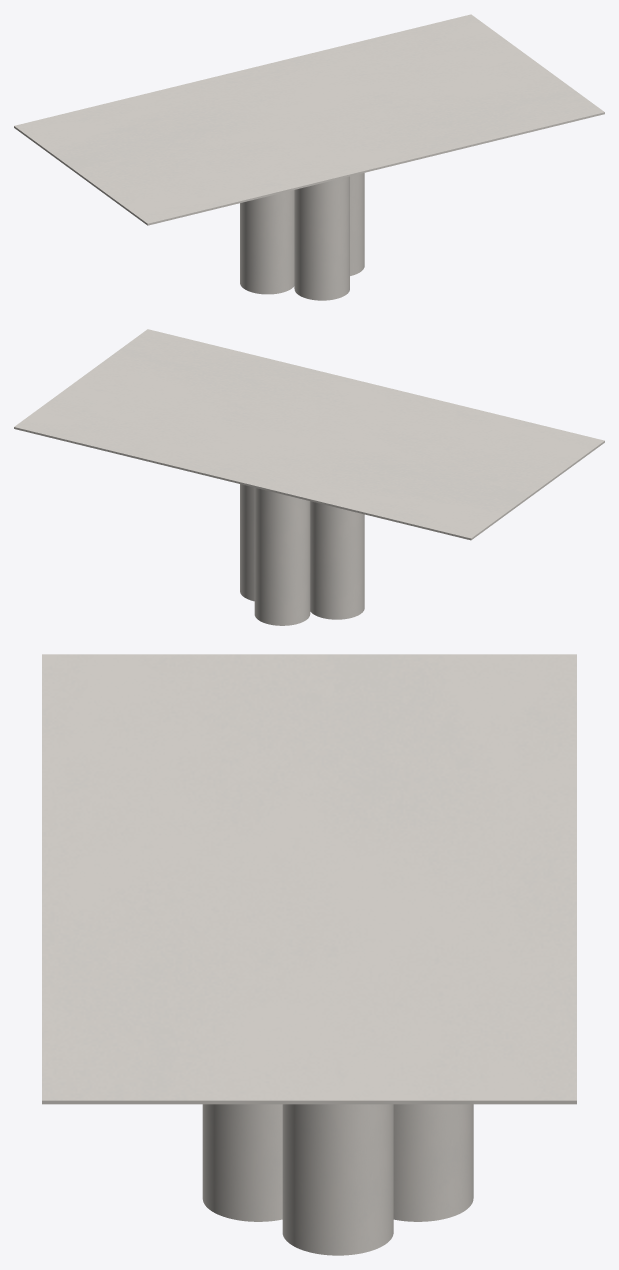
The model's file is pearlwhite_recta_facet_secondtable.glb.
3 renders of one model, top to bottom at view 1: azimuth 30°, elevation 25°; view 2: azimuth 150°, elevation 25°; view 3: azimuth 270°, elevation 25°, orthographic. The views are drawn at different scales.
Visible parts, largest first — view 1: facet_recta, secondtable; view 2: facet_recta, secondtable; view 3: facet_recta, secondtable.
Part boxes in pixels (x1,y1,x2,y2): facet_recta: (14, 14, 604, 225); secondtable: (240, 173, 364, 300); facet_recta: (14, 329, 604, 540); secondtable: (240, 484, 364, 625); facet_recta: (42, 654, 576, 1104); secondtable: (202, 1104, 473, 1255).
Bounding box in the file's own units: 7.5 × 2.51 × 3.8.
1 material, 1 textured.
